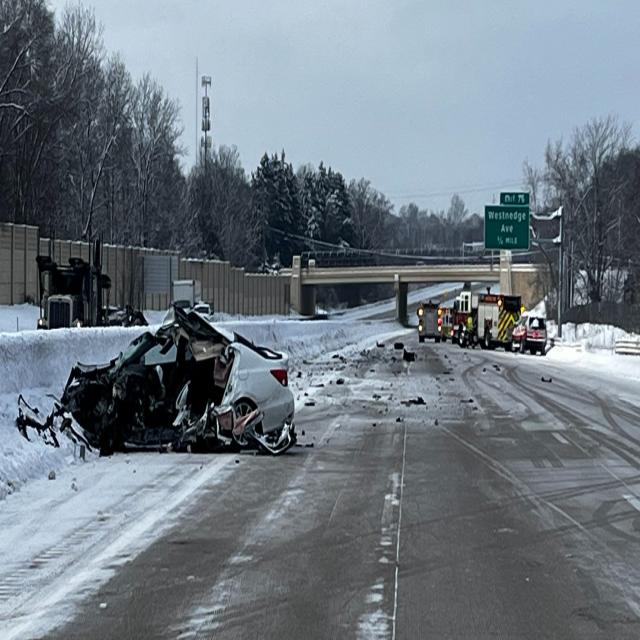Accident: (57, 310, 299, 468)
